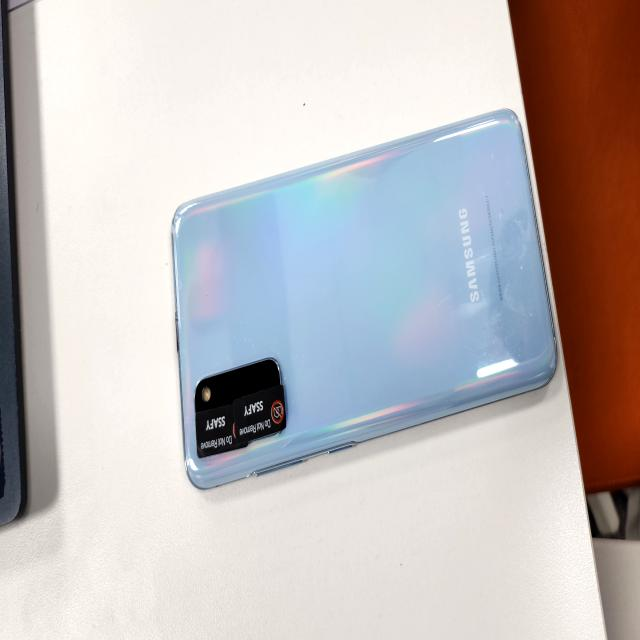phone: (173, 108, 557, 490)
sticker: (233, 385, 286, 443), (196, 403, 248, 456)
